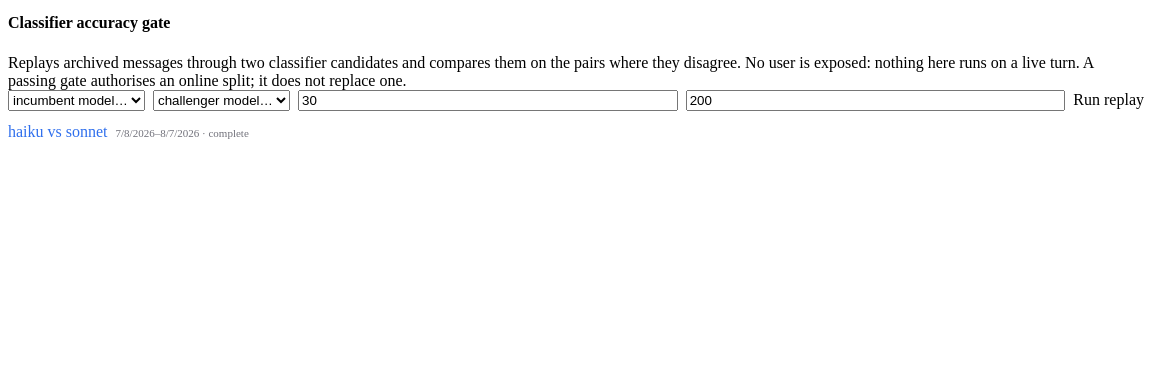
Test: ClassifierGatePanel › describes the CORPUS: the window and what was excluded from it
This screenshot has width=1152, height=374.
Click the button "haiku vs sonnet" at point(58, 132), box [8,122,108,140]
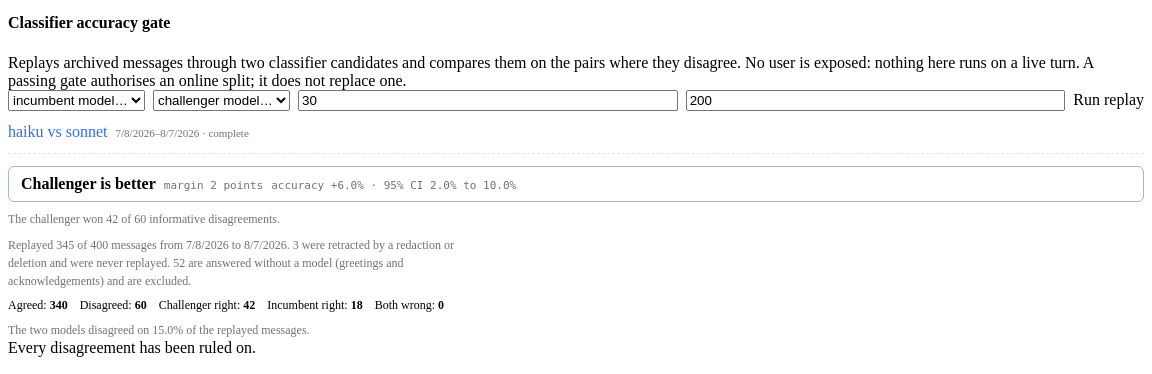
Check: the text "Replayed 345 of 400 messages" is shown, box [8,236,476,290]
Check: the text "3 were retracted by a redaction or deletion" is shown, box [8,238,454,270]
Check: the text "52 are answered without a model" is shown, box [8,256,404,288]
